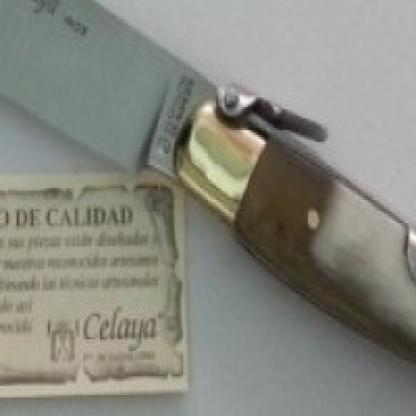knife: (0, 0, 208, 200)
